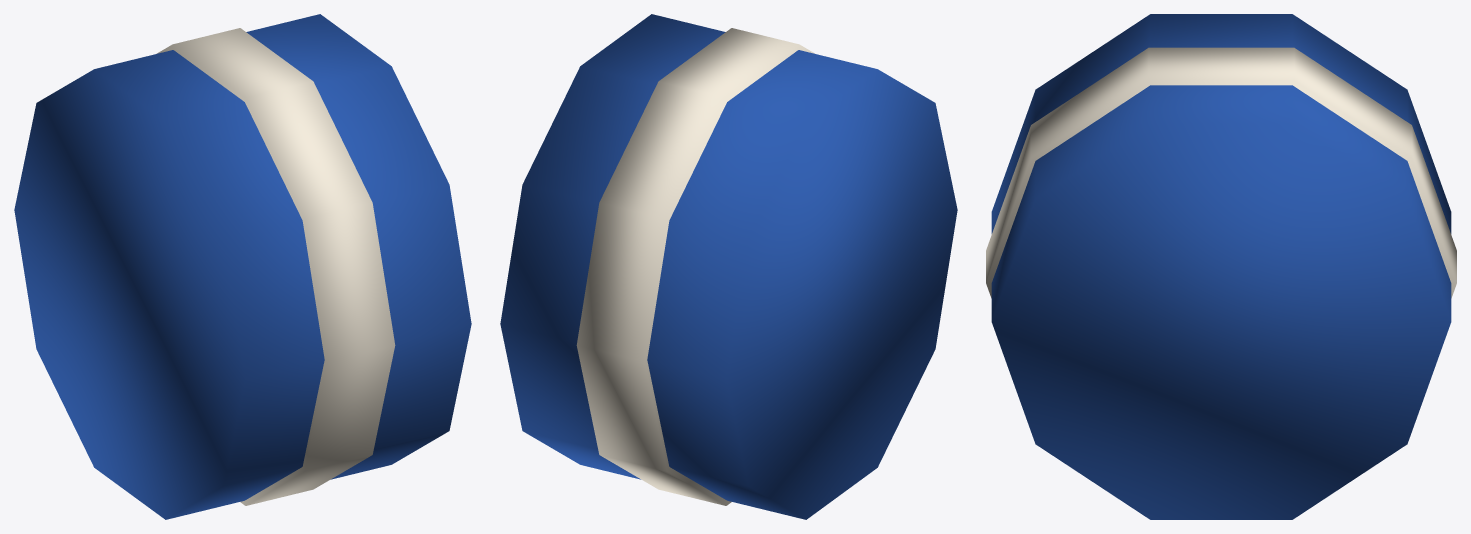
Rendered from npc_armband_blue.glb.
3 renders of one model, left to right at view 1: azimuth 30°, elevation 25°; view 2: azimuth 150°, elevation 25°; view 3: azimuth 270°, elevation 25°, orthographic.
Parts seen in each view (by area): view 1: part.npc_armband_blue; view 2: part.npc_armband_blue; view 3: part.npc_armband_blue.
Part boxes in pixels (<box>): part.npc_armband_blue: <box>14,14,471,519</box>; part.npc_armband_blue: <box>500,14,957,519</box>; part.npc_armband_blue: <box>986,14,1456,519</box>.
Size of the model in its own units: 0.07 by 0.1208 by 0.127.
